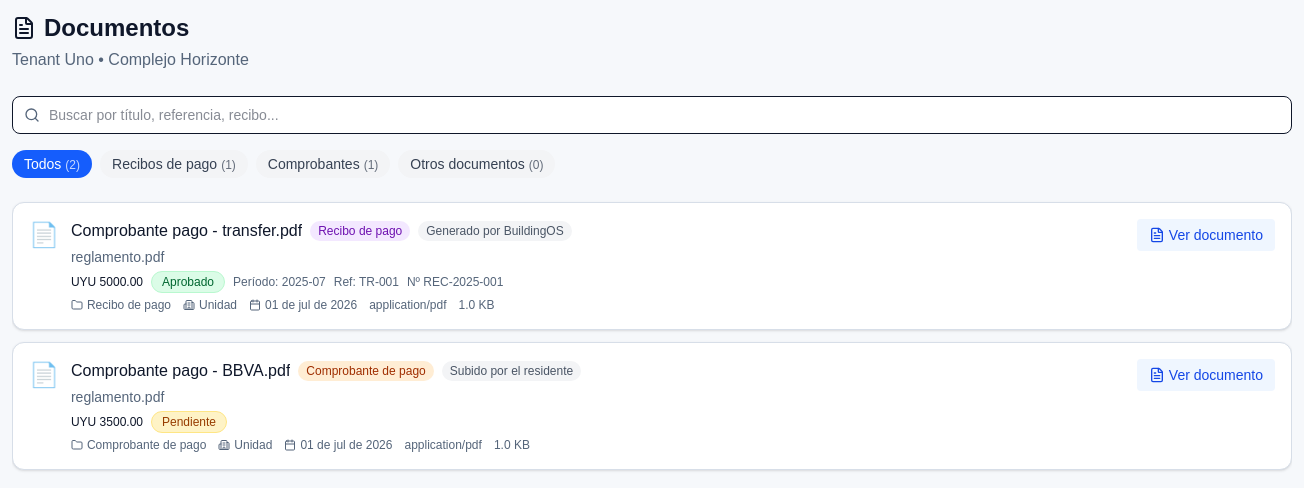
Scenario: ResidentDocumentsPage › Type filter › clears filters and shows all documents
Click the button "Recibos de pago(1)".
click(174, 164)  # box [100,150,248,178]
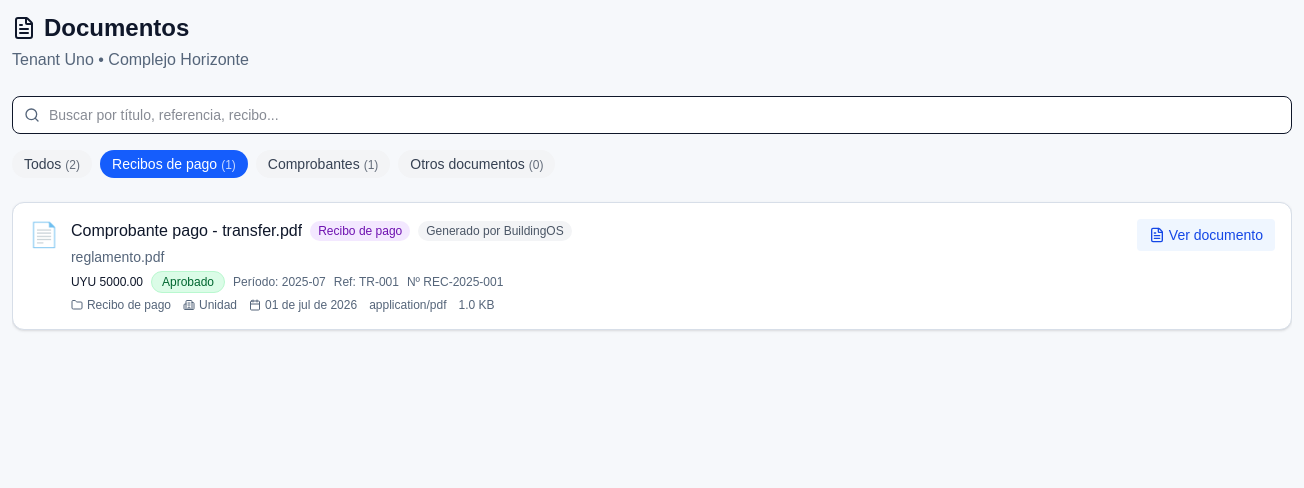
Check: the heading "Comprobante pago - BBVA.pdf" is gone
Click the button "Otros documentos(0)".
click(477, 164)  # box [398,150,555,178]
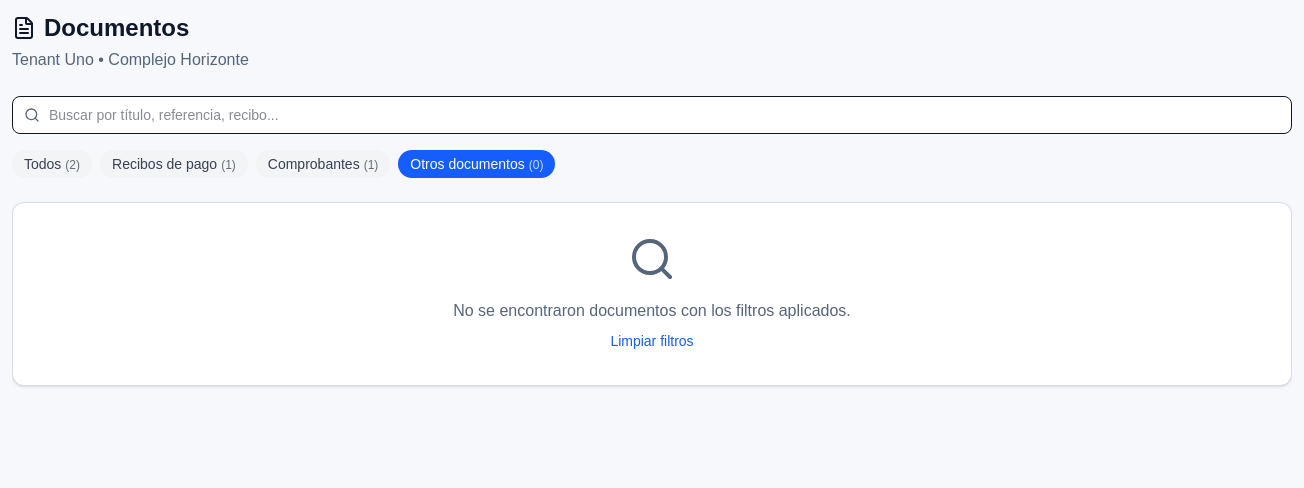
Check: the text "No se encontraron documentos con los filtros aplicados." is shown, box [453,302,851,319]
Click the button "Limpiar filtros".
click(652, 341)  # box [610,331,694,351]
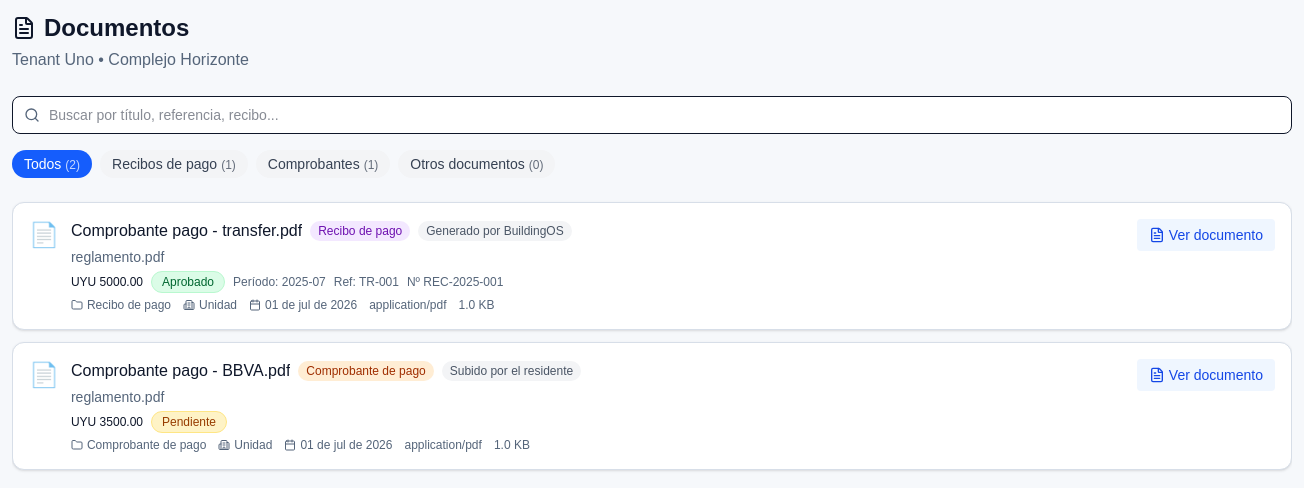
Check: the heading "Comprobante pago - transfer.pdf" is shown, box [71,219,302,243]
Check: the heading "Comprobante pago - BBVA.pdf" is shown, box [71,359,290,383]
